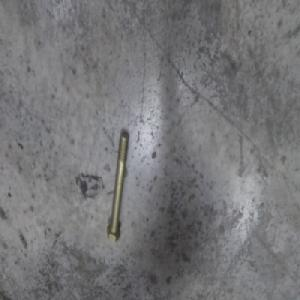Bolt: (107, 130, 131, 248)
